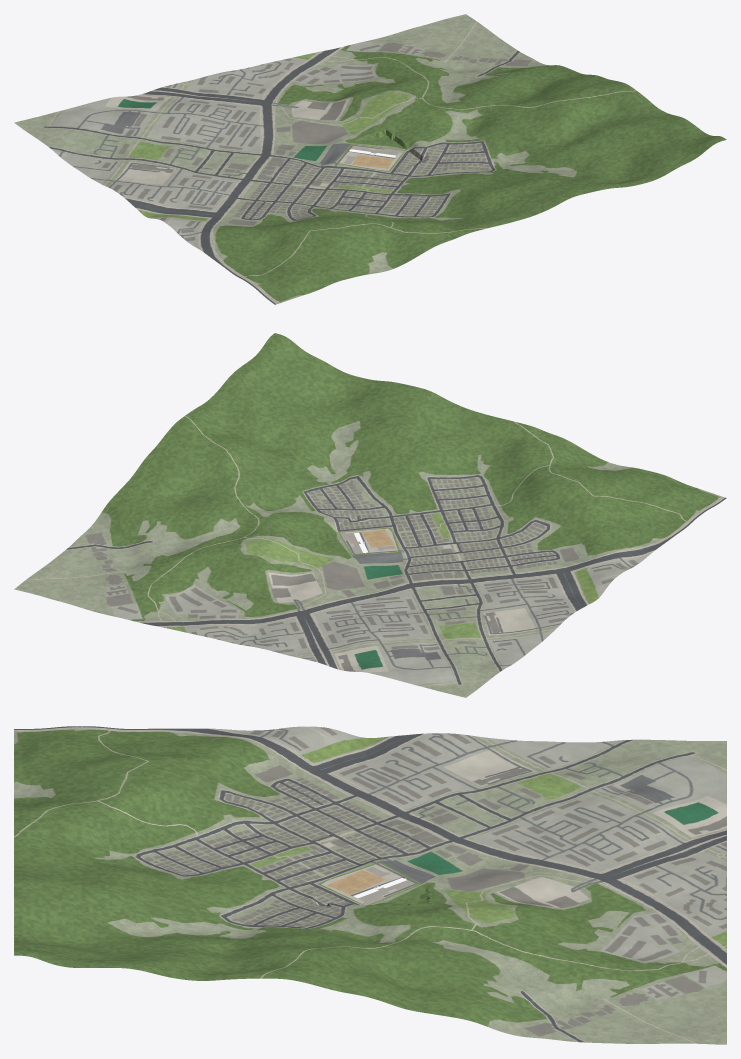
3 renders of one model, top to bottom at view 1: azimuth 30°, elevation 25°; view 2: azimuth 150°, elevation 25°; view 3: azimuth 270°, elevation 25°, orthographic. The views are drawn at different scales.
Parts seen in each view (by area): view 1: terrain-ground-area, terrain-ground-school; view 2: terrain-ground-area, terrain-ground-school; view 3: terrain-ground-area, terrain-ground-school.
Part boxes in pixels (x1,y1,x2,y2): terrain-ground-area: [14, 14, 726, 304]; terrain-ground-school: [301, 122, 439, 185]; terrain-ground-area: [14, 333, 726, 697]; terrain-ground-school: [301, 509, 439, 574]; terrain-ground-area: [14, 726, 726, 1044]; terrain-ground-school: [302, 853, 438, 908].
Bounding box in the file's own units: 1088 × 157 × 1088.
2 materials, 2 textured.
